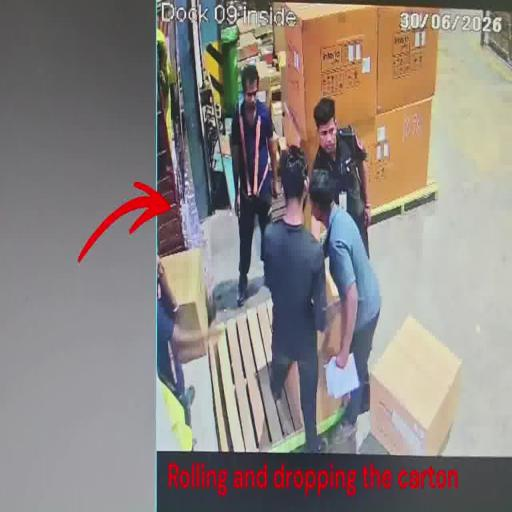carton: (367, 312, 465, 459), (273, 3, 379, 118), (293, 268, 352, 425), (374, 4, 444, 119), (283, 96, 378, 175), (375, 101, 434, 209), (158, 249, 208, 344), (304, 212, 328, 245)
pallet: (206, 297, 348, 457), (369, 180, 440, 227)
person: (259, 148, 329, 456), (308, 169, 382, 438), (229, 61, 282, 309), (309, 98, 372, 263), (156, 256, 196, 428)
